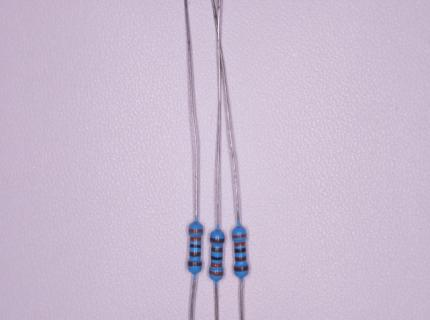Black band: (235, 247, 246, 252), (190, 244, 201, 248), (211, 256, 222, 260)
Brown band: (234, 266, 248, 271), (210, 237, 224, 242), (188, 262, 202, 266), (235, 256, 246, 261), (211, 247, 222, 252), (189, 252, 200, 256)
Orange band: (209, 270, 223, 276), (188, 229, 202, 233), (211, 262, 222, 267), (233, 234, 246, 238), (190, 237, 201, 241), (234, 242, 245, 246)
